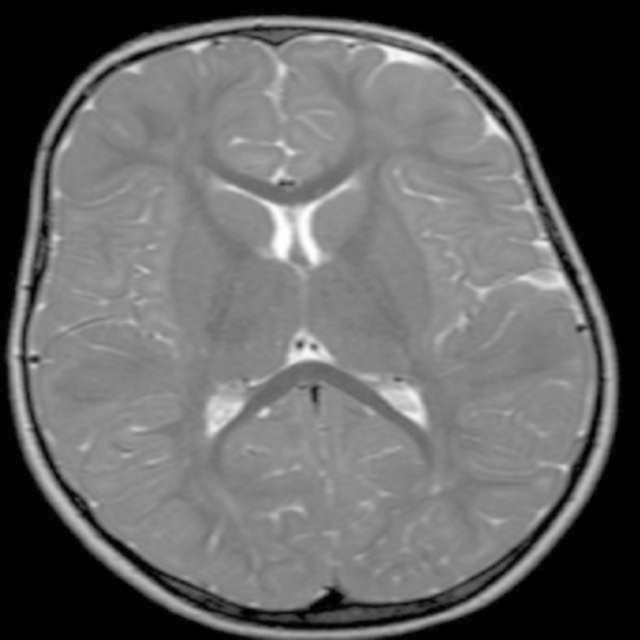glioma tumor: (89, 62, 478, 540)
